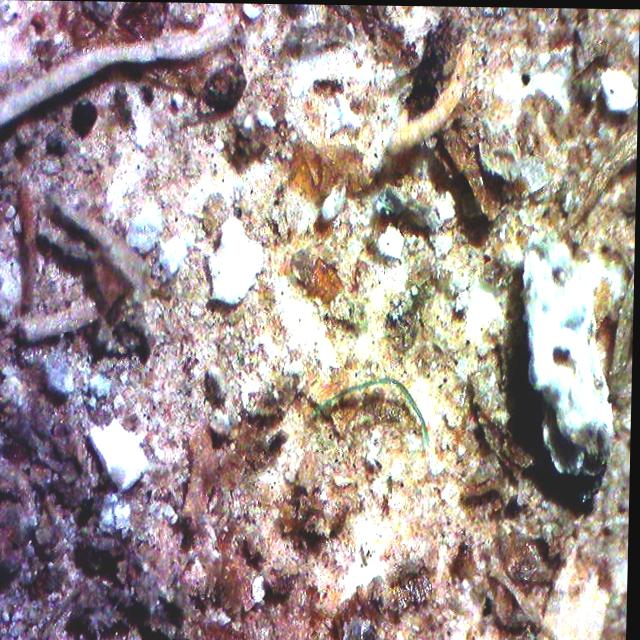microplastic: (314, 373, 431, 441)
